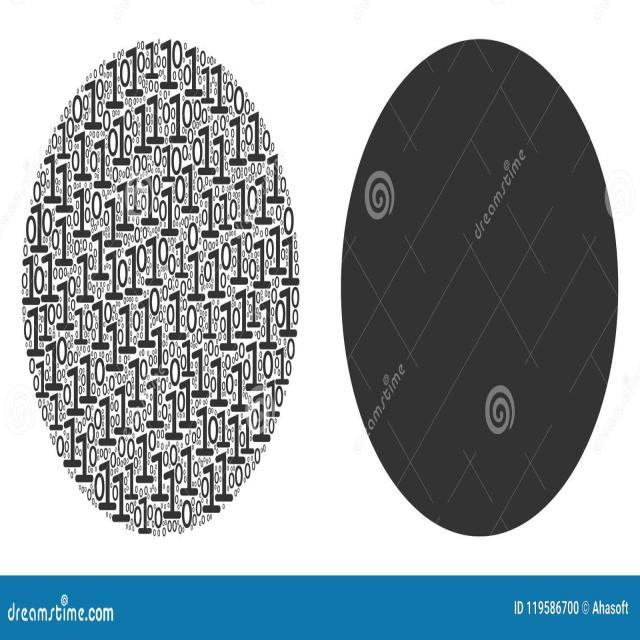Circle: (21, 32, 302, 530), (341, 40, 618, 536)
